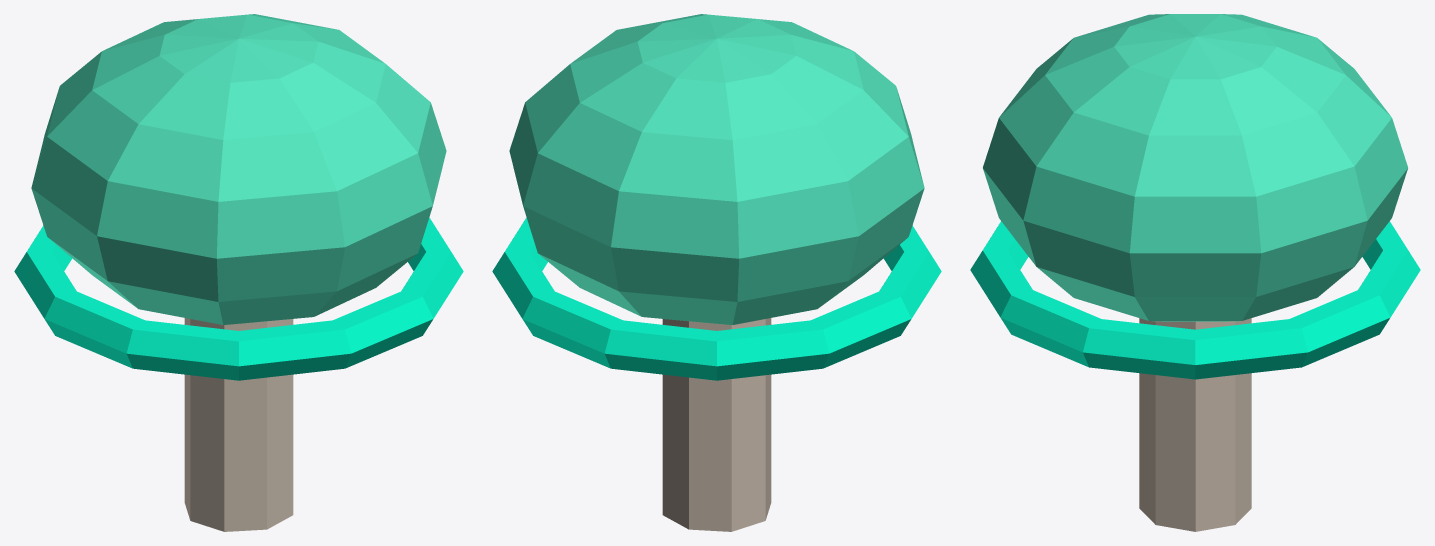
Rendered from glow_mushroom.dae.
The picture shows the model from 3 angles, left to right: view 1: azimuth 30°, elevation 25°; view 2: azimuth 150°, elevation 25°; view 3: azimuth 270°, elevation 25°; orthographic projection.
Visible parts, largest first — view 1: Sphere, Torus.004, Cylinder; view 2: Sphere, Torus.004, Cylinder; view 3: Sphere, Torus.004, Cylinder.
Boxes of the visible parts, left/top/right/bottom form: Sphere: left=31, top=14, right=446, bottom=324; Torus.004: left=14, top=217, right=463, bottom=380; Cylinder: left=184, top=318, right=293, bottom=531; Sphere: left=509, top=14, right=924, bottom=324; Torus.004: left=492, top=217, right=941, bottom=380; Cylinder: left=662, top=318, right=771, bottom=531; Sphere: left=983, top=14, right=1407, bottom=321; Torus.004: left=970, top=221, right=1420, bottom=379; Cylinder: left=1139, top=318, right=1251, bottom=531.
Bounding box in the file's own units: 72 × 72 × 83.12.
